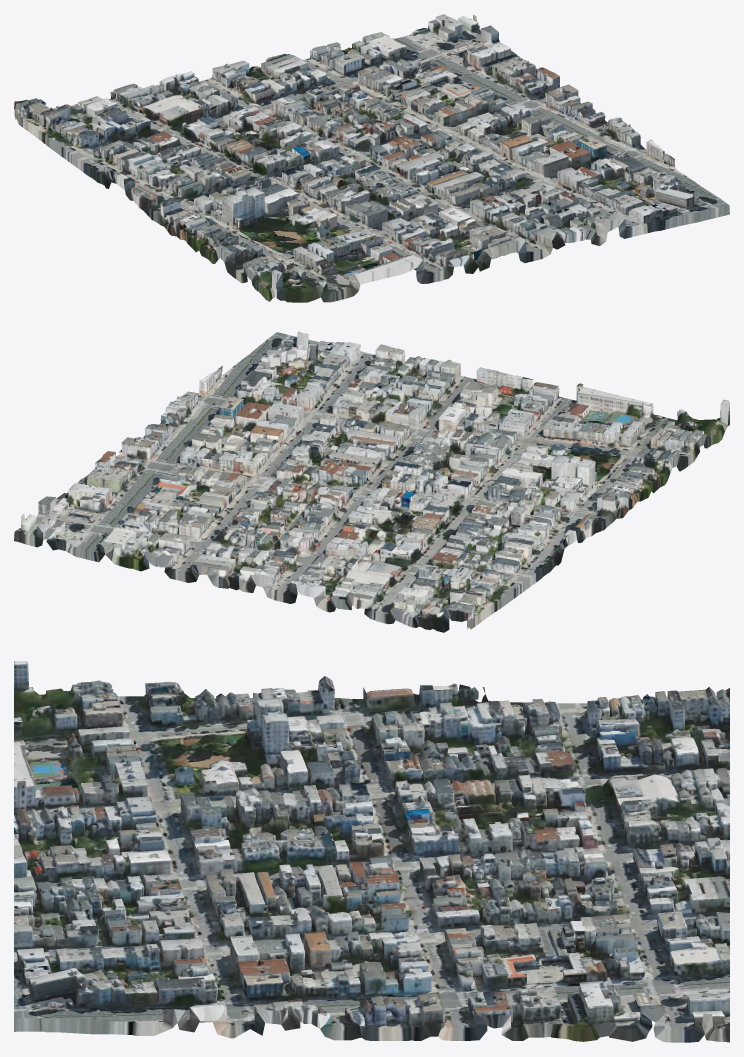
Rendered from z16-10480-25325-h0-yup-uvflip-v3-world.glb.
3 views of the same model, one above another, from view 1: azimuth 30°, elevation 25°; view 2: azimuth 150°, elevation 25°; view 3: azimuth 270°, elevation 25° (orthographic). The views are drawn at different scales.
Size of the model in its own units: 484 by 60.16 by 485.
1 material, 1 textured.
